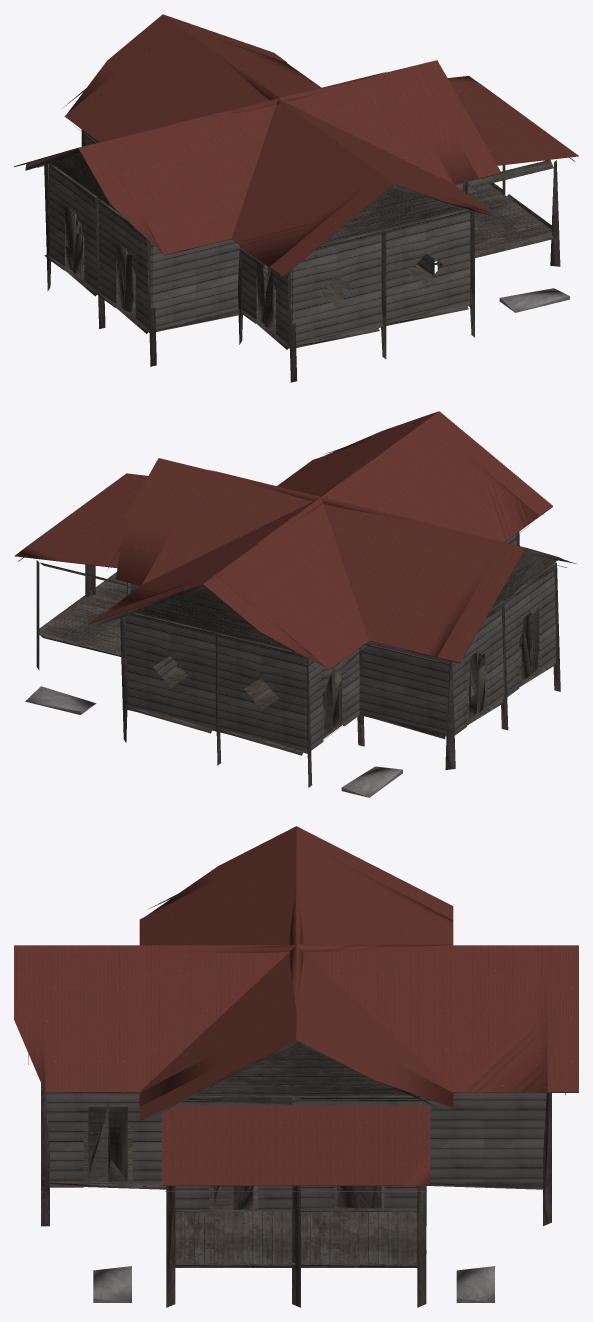
File: nha-go-mien-tay.glb
3 renders of one model, top to bottom at view 1: azimuth 30°, elevation 25°; view 2: azimuth 150°, elevation 25°; view 3: azimuth 270°, elevation 25°, orthographic. The views are drawn at different scales.
Parts seen in each view (by area): view 1: Floor.007_House_atlas_0; view 2: Floor.007_House_atlas_0; view 3: Floor.007_House_atlas_0.
Boxes of the visible parts, box(x1,y1,x2,y2) form: Floor.007_House_atlas_0: box(14, 14, 578, 382); Floor.007_House_atlas_0: box(14, 411, 576, 797); Floor.007_House_atlas_0: box(14, 826, 578, 1307).
Size of the model in its own units: 0.9839 by 0.4038 by 0.8841.
1 material, 1 textured.
